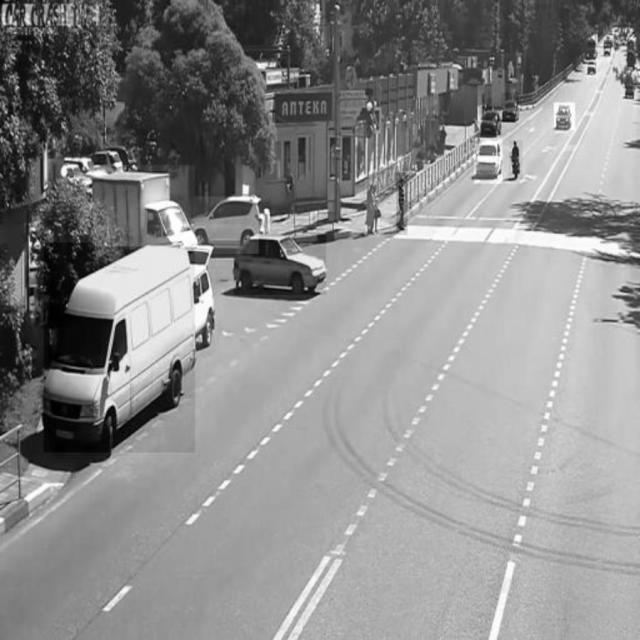person: (365, 179, 381, 237), (397, 173, 407, 235)
vehicle: (44, 243, 195, 453), (92, 165, 195, 246), (234, 235, 326, 295), (194, 196, 258, 253), (474, 138, 502, 184), (509, 140, 523, 181), (554, 102, 574, 130), (480, 107, 500, 135), (502, 93, 519, 125), (584, 57, 598, 77)
